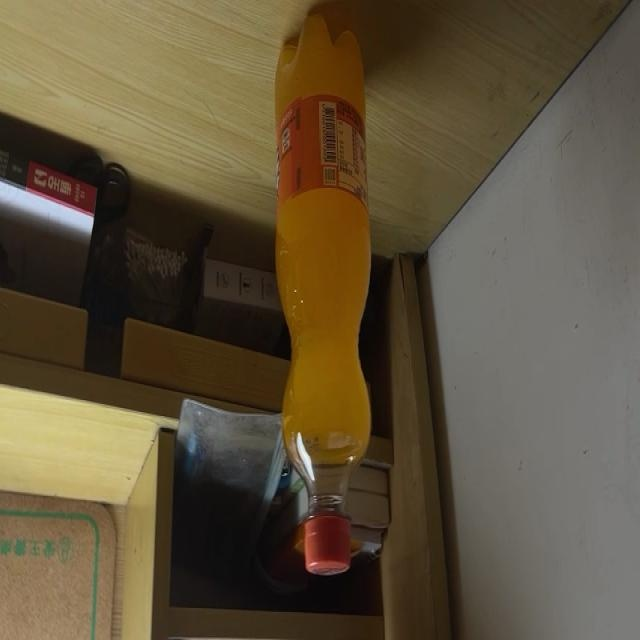Fanta: (274, 14, 372, 576)
